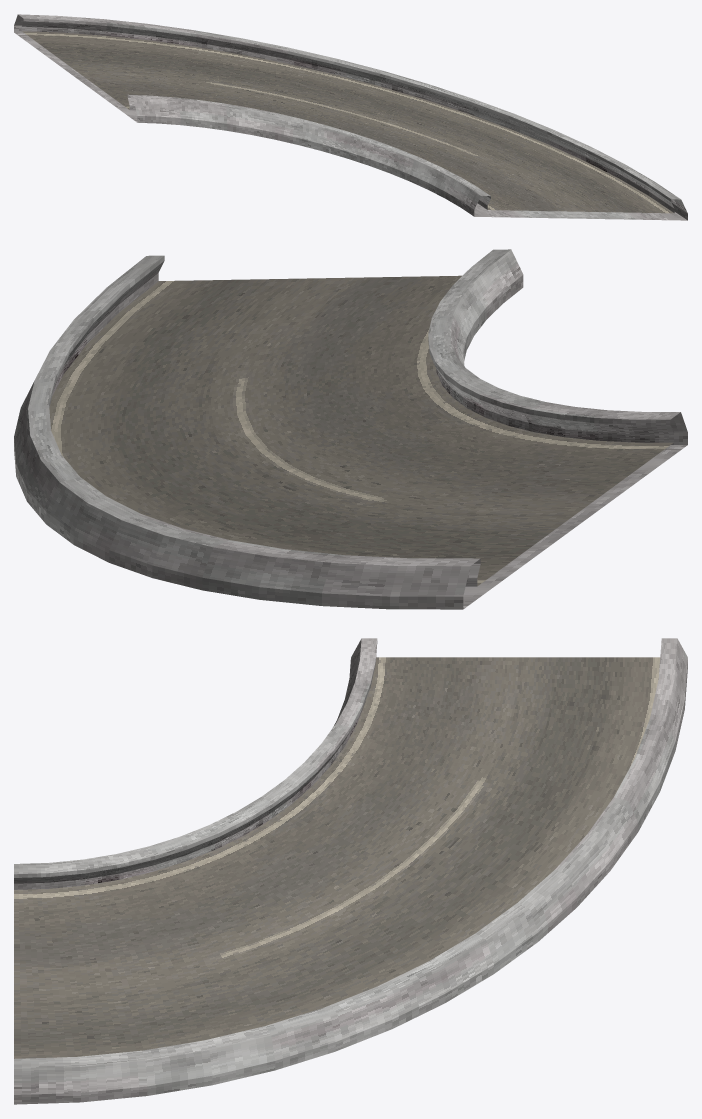
Rendered from road-Turn-HalfBankedRight-BiSlopeUp-Up2-Left-Size2.glb.
3 views of the same model, one above another, from view 1: azimuth 30°, elevation 25°; view 2: azimuth 150°, elevation 25°; view 3: azimuth 270°, elevation 25° (orthographic). The views are drawn at different scales.
Visible parts, largest first — view 1: road-Turn-HalfBankedRight-BiSlopeUp-Up2-Left-Size2; view 2: road-Turn-HalfBankedRight-BiSlopeUp-Up2-Left-Size2; view 3: road-Turn-HalfBankedRight-BiSlopeUp-Up2-Left-Size2.
Boxes of the visible parts, box(x1,y1,x2,y2) form: road-Turn-HalfBankedRight-BiSlopeUp-Up2-Left-Size2: box(14, 14, 687, 220); road-Turn-HalfBankedRight-BiSlopeUp-Up2-Left-Size2: box(14, 249, 687, 609); road-Turn-HalfBankedRight-BiSlopeUp-Up2-Left-Size2: box(14, 638, 687, 1104).
Bounding box in the file's own units: 2 × 0.5937 × 2.
Materials: 2 (2 with a texture image).
